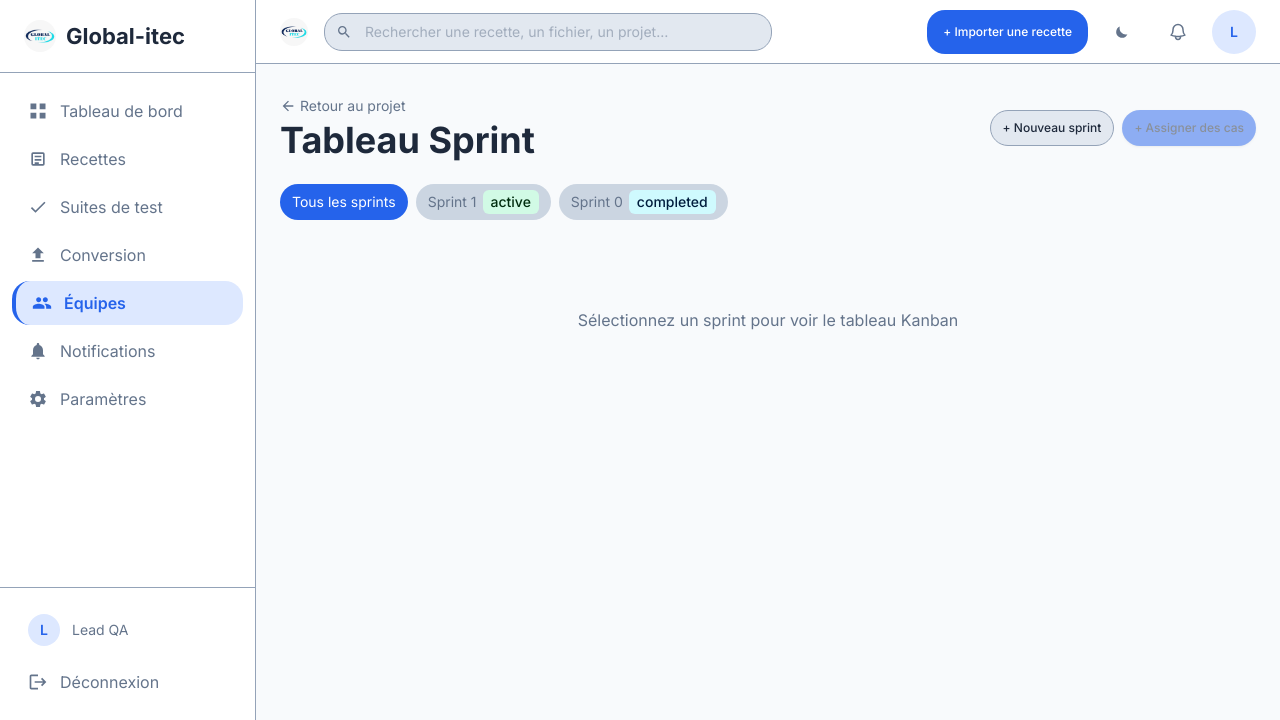
Test case: SprintBoardPage › opens create sprint modal on button click
The width and height of the screenshot is (1280, 720).
Click the button "+ Nouveau sprint": (1052, 128) [990,110,1114,146]
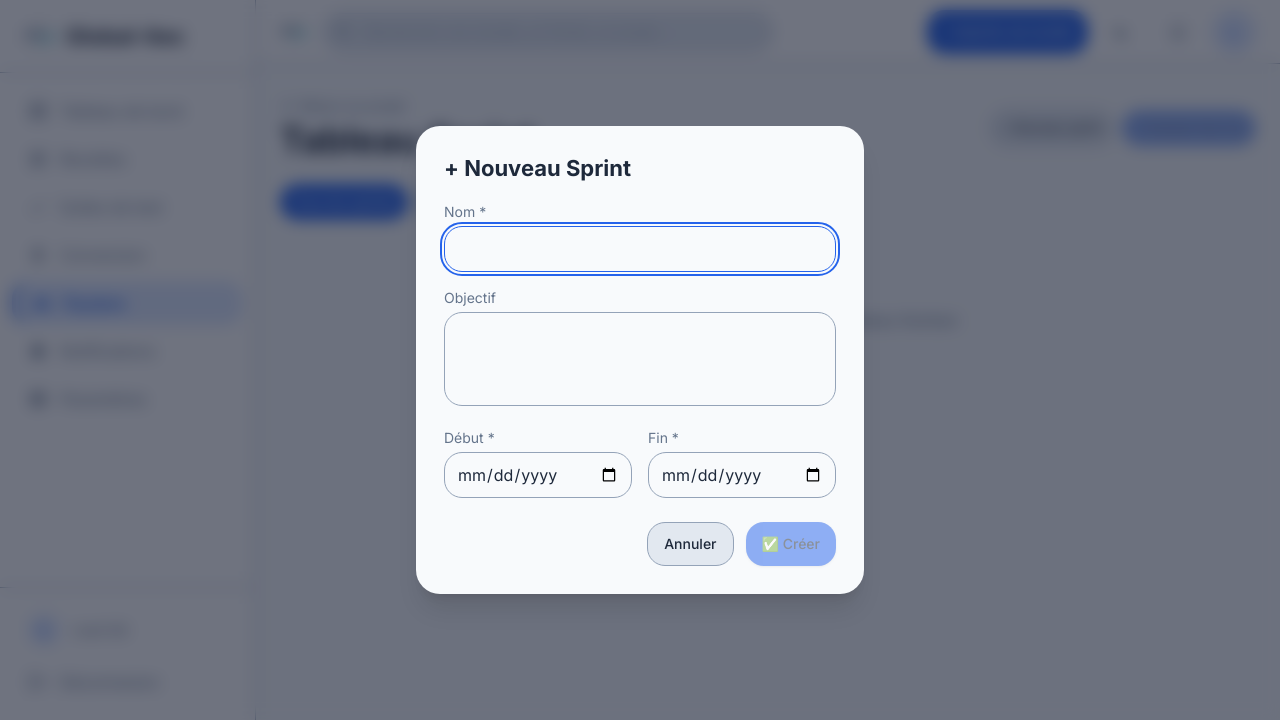
Result: the heading "+ Nouveau Sprint" is shown at [444,155,631,181]
